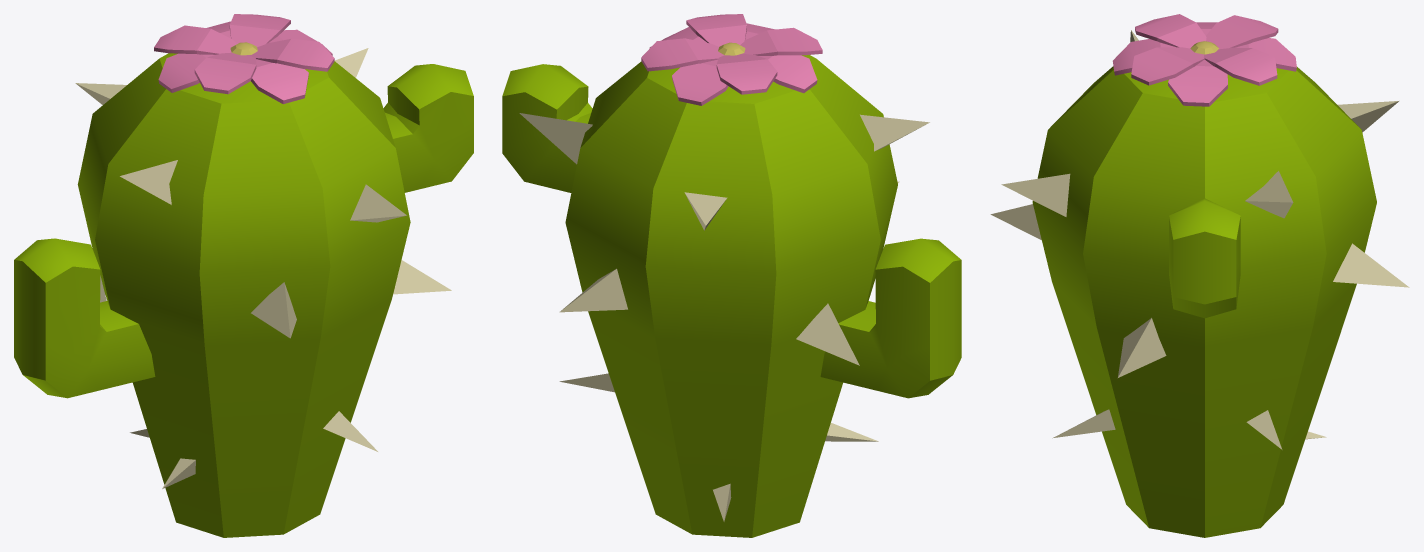
File: Cactus2.fbx
3 renders of one model, left to right at view 1: azimuth 30°, elevation 25°; view 2: azimuth 150°, elevation 25°; view 3: azimuth 270°, elevation 25°, orthographic.
Parts seen in each view (by area): view 1: pCone13; view 2: pCone13; view 3: pCone13.
Part boxes in pixels (x1,y1,x2,y2): pCone13: (14,14,473,537); pCone13: (502,14,961,537); pCone13: (990,14,1409,537).
Size of the model in its own units: 2.07 by 1.7 by 2.06.
